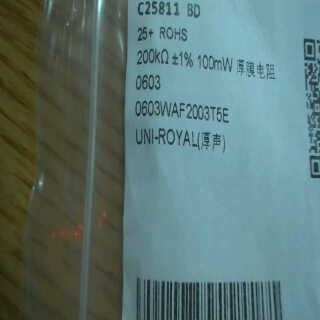200kR: (132, 44, 172, 65)
